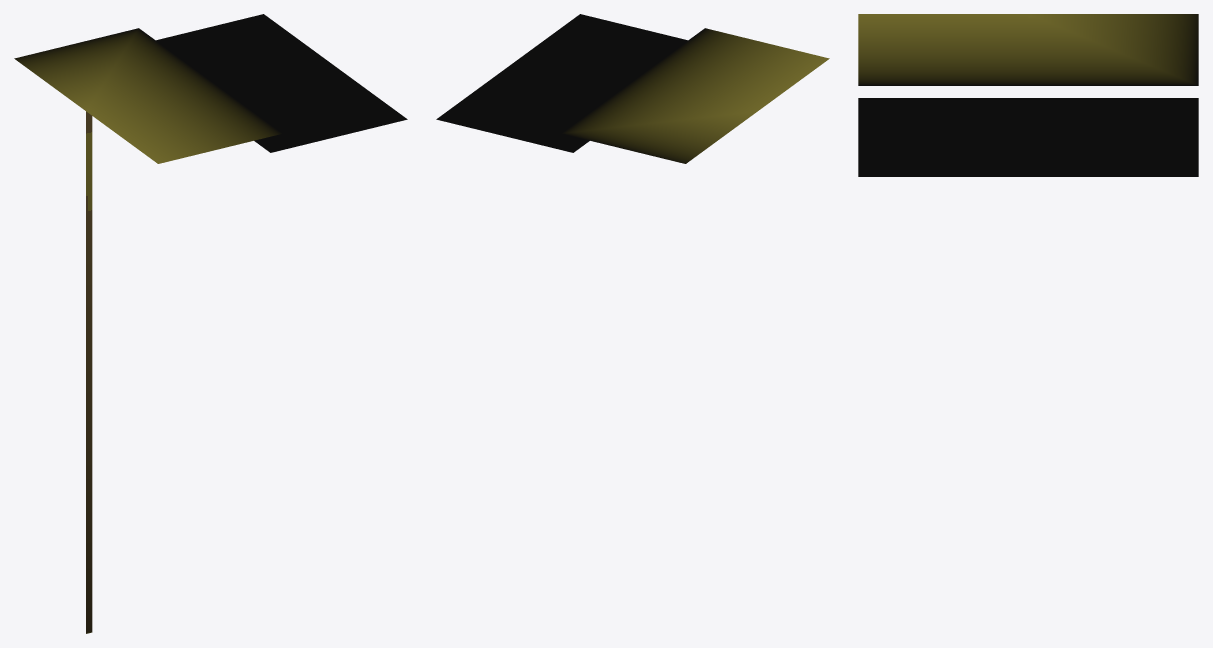
The picture shows the model from 3 angles, left to right: view 1: azimuth 30°, elevation 25°; view 2: azimuth 150°, elevation 25°; view 3: azimuth 270°, elevation 25°; orthographic projection. The views are drawn at different scales.
Bounding box in the file's own units: 1 × 2 × 1.
1 material, 1 textured.
